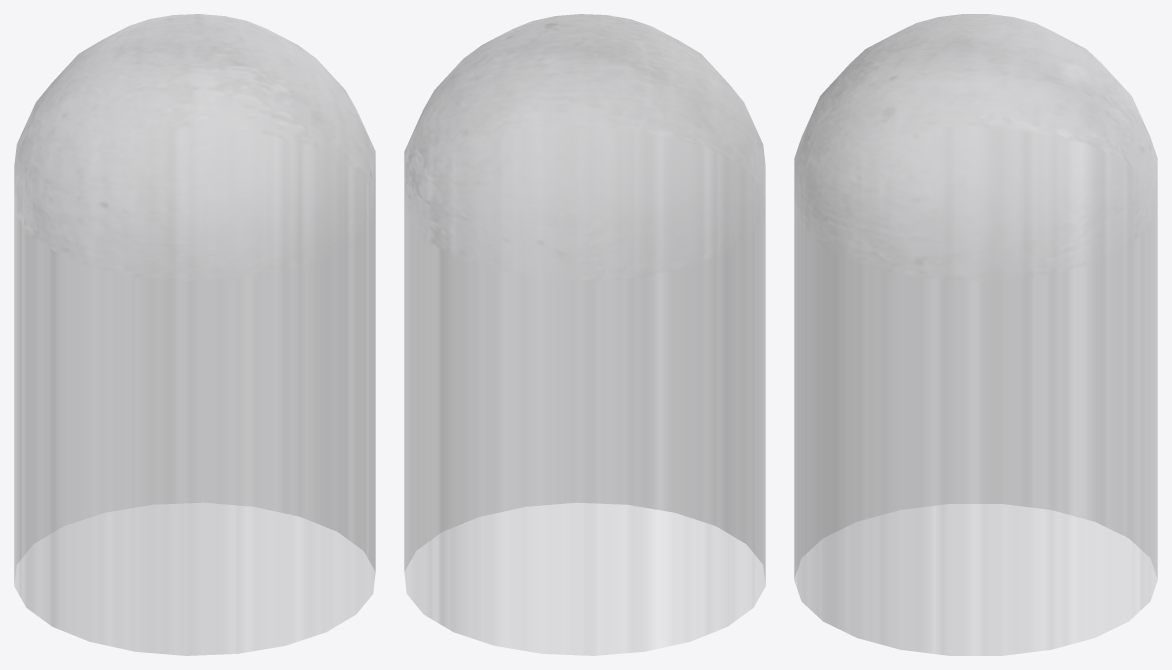
File: rose-dome.glb
3 views of the same model, side by side, from view 1: azimuth 30°, elevation 25°; view 2: azimuth 150°, elevation 25°; view 3: azimuth 270°, elevation 25° (orthographic).
Visible parts, largest first — view 1: Sphere002_Material #50_0; view 2: Sphere002_Material #50_0; view 3: Sphere002_Material #50_0.
Boxes of the visible parts, left/top/right/bottom form: Sphere002_Material #50_0: left=14, top=14, right=375, bottom=655; Sphere002_Material #50_0: left=404, top=14, right=765, bottom=655; Sphere002_Material #50_0: left=794, top=14, right=1157, bottom=655.
Bounding box in the file's own units: 79.84 × 133 × 80.67.
Materials: 1 (1 with a texture image).
